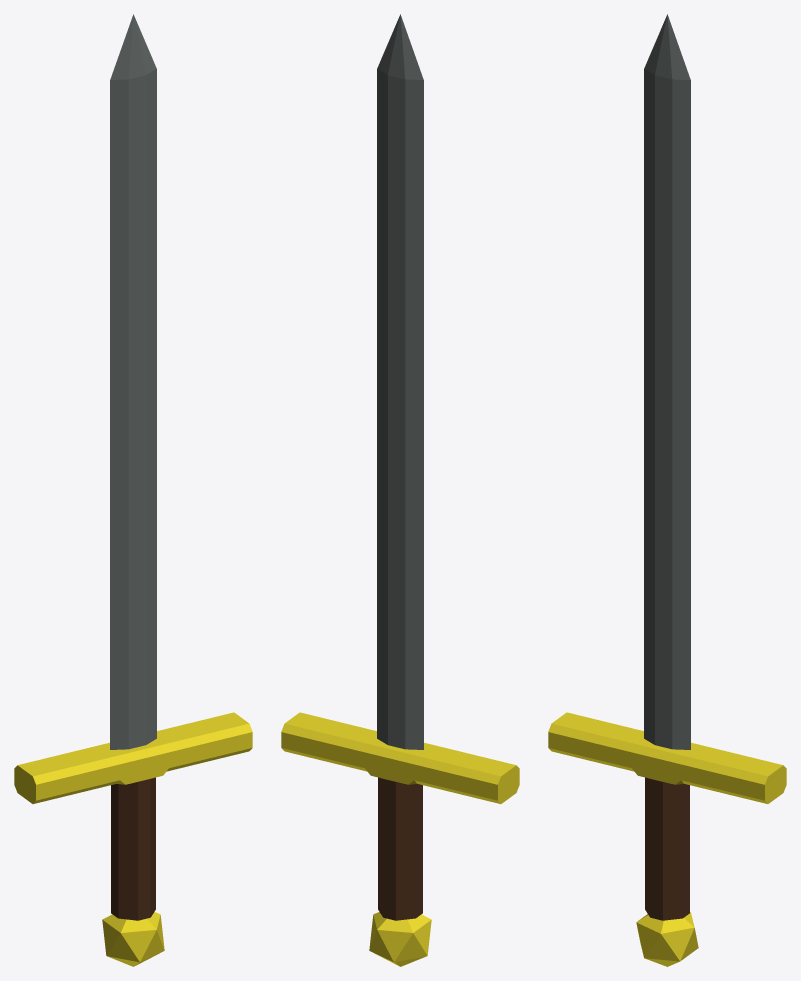
The model's file is sword1.glb.
3 renders of one model, left to right at view 1: azimuth 30°, elevation 25°; view 2: azimuth 150°, elevation 25°; view 3: azimuth 330°, elevation 25°, orthographic.
Parts seen in each view (by area): view 1: Icosphere; view 2: Icosphere; view 3: Icosphere.
Boxes of the visible parts, left/top/right/bottom form: Icosphere: left=14, top=14, right=252, bottom=966; Icosphere: left=281, top=14, right=519, bottom=966; Icosphere: left=548, top=14, right=786, bottom=966.
Size of the model in its own units: 0.1768 by 0.743 by 0.0422.
